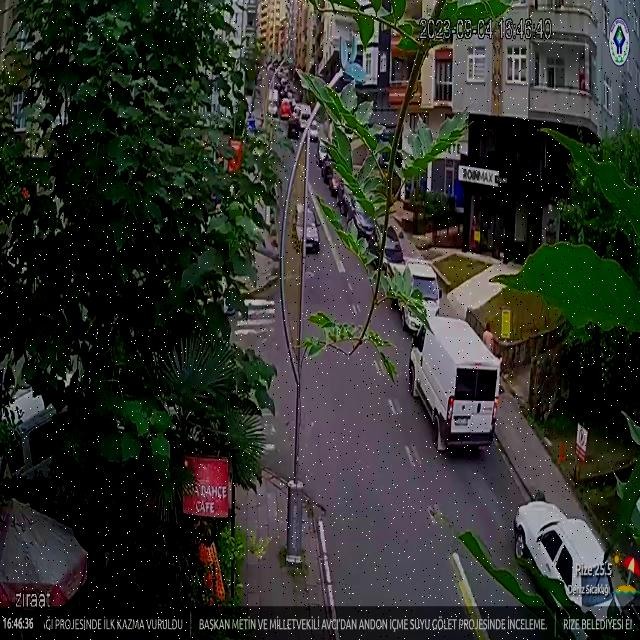Car: (514, 502, 624, 628), (293, 203, 321, 253)
Truck: (388, 257, 443, 334)
Van: (408, 316, 501, 451)
